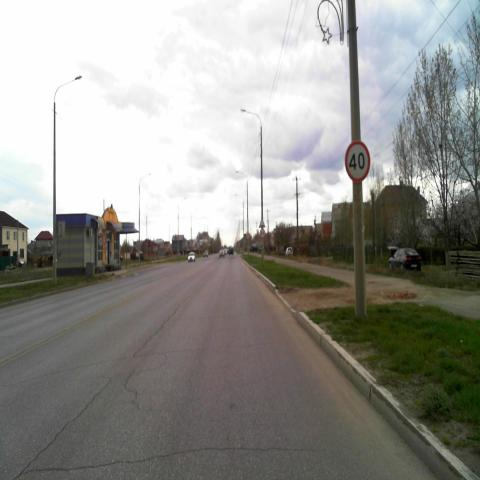1_17: (259, 218, 265, 228), (98, 225, 103, 237)
2_1: (246, 231, 250, 240)
3_24: (345, 138, 371, 183), (98, 237, 104, 247), (260, 228, 265, 238)
